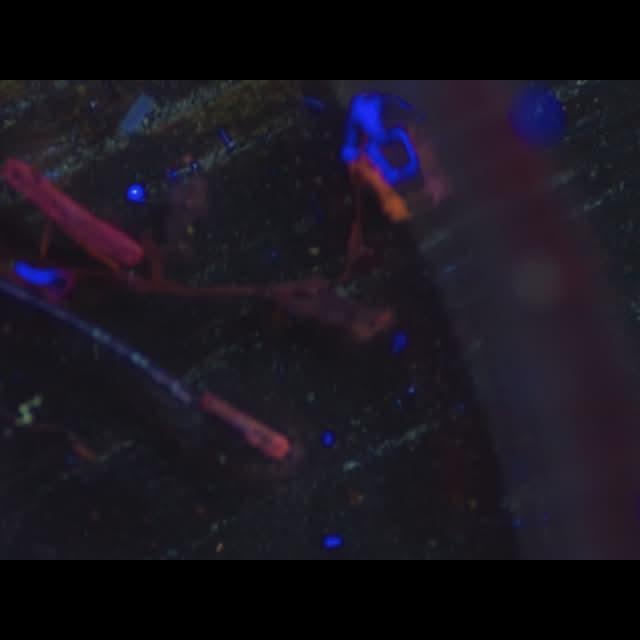Fibre: (16, 397, 42, 428)
